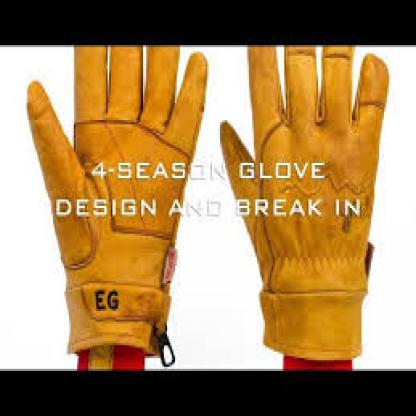with_gloves: (26, 43, 209, 358), (218, 45, 389, 365)
